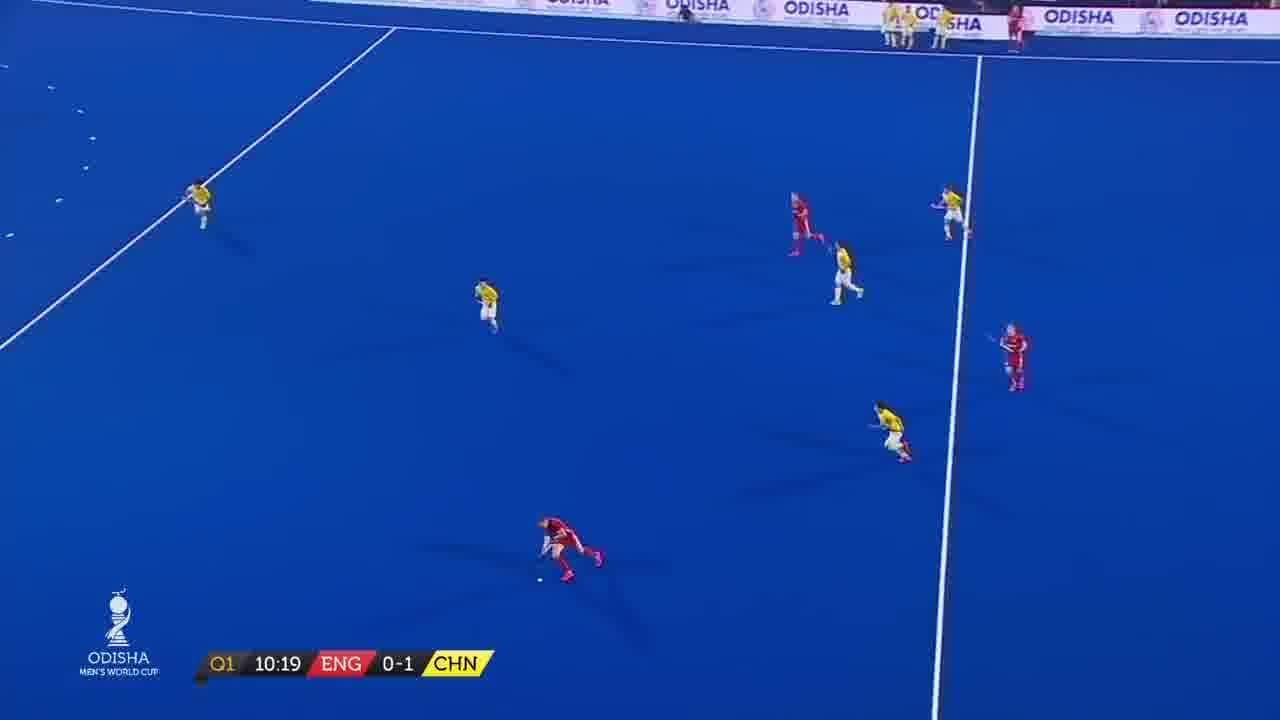ball: (533, 572, 550, 587)
